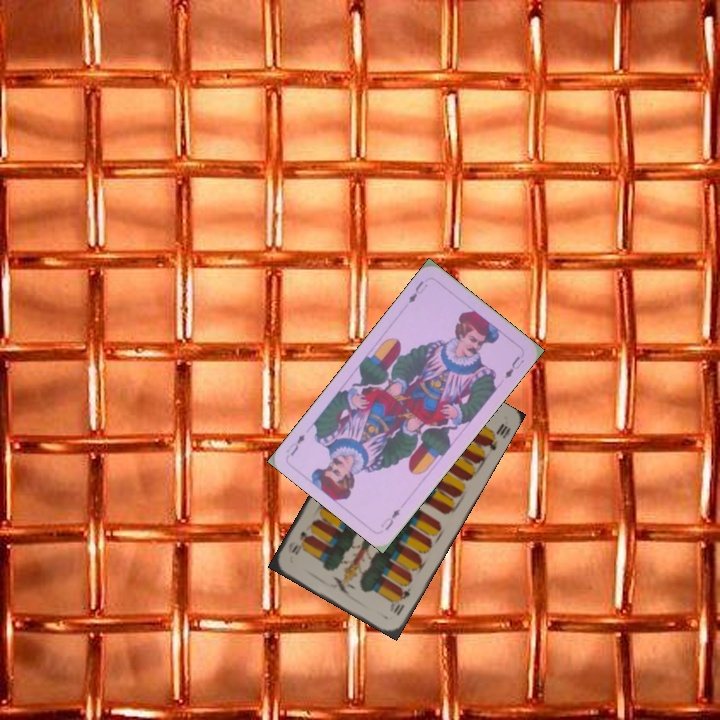E10: (389, 584, 413, 618)
EU: (376, 505, 403, 533), (405, 277, 430, 306)
